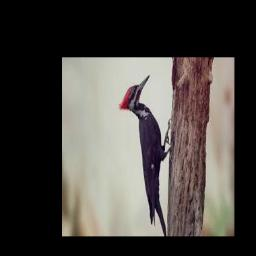Woodpecker: (119, 74, 172, 236)
